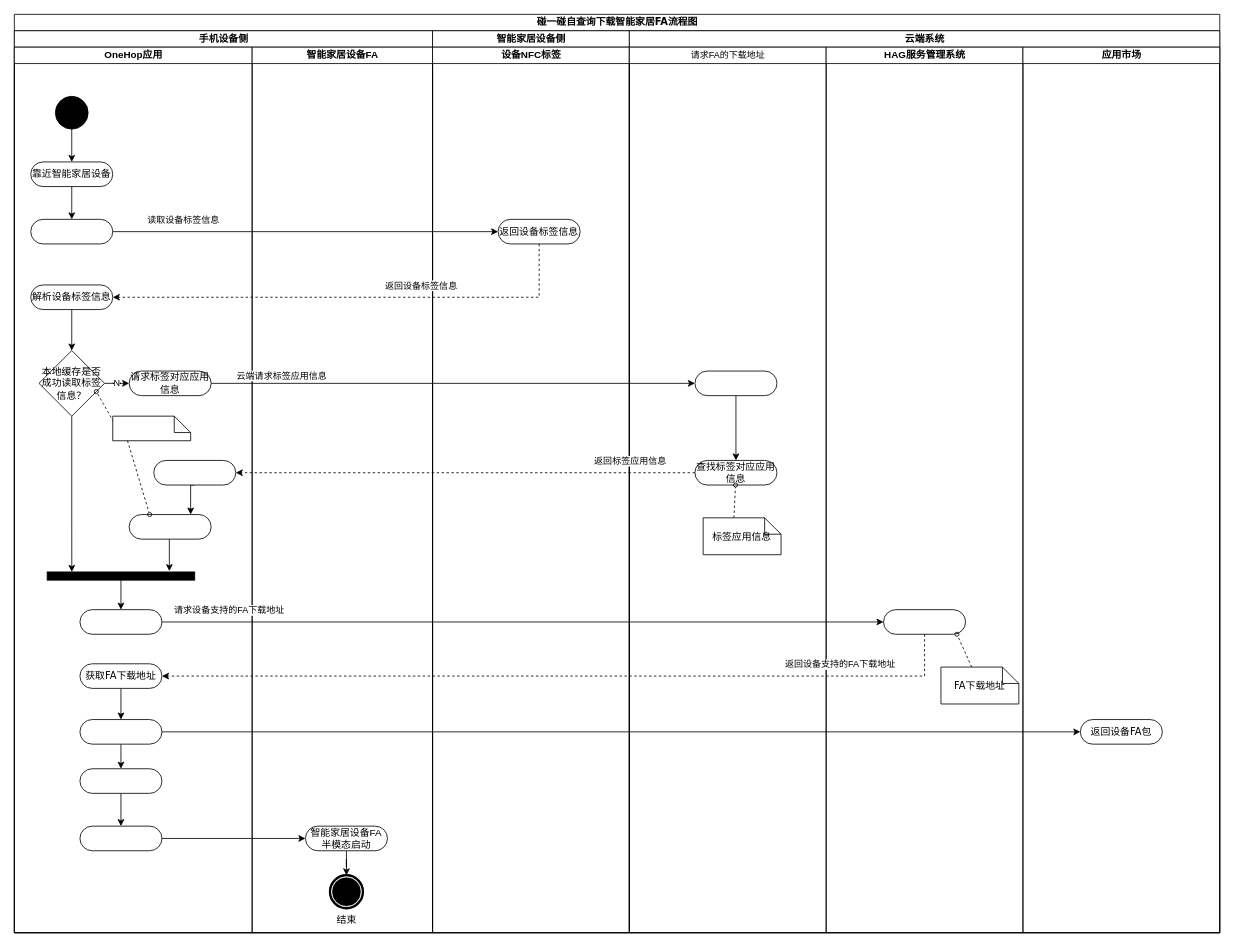
This 1234x947 diagram has some shape labels left out. The centre of each missing label's shape, as x and y in pixels:
下载FA: pixel 120 731
开始: pixel 71 112
拉起智能家居设备FA: pixel 120 838
标签映射缓存: pixel 151 428
缓存标签映射信息: pixel 169 526
获取设备支持的FA应用下载地址: pixel 924 621
解包FA: pixel 120 780
解析标签信息: pixel 735 383
解析标签应用信息: pixel 194 472
请求设备支持的FA应用信息: pixel 120 621
读取设备NFC标签信息: pixel 71 231
